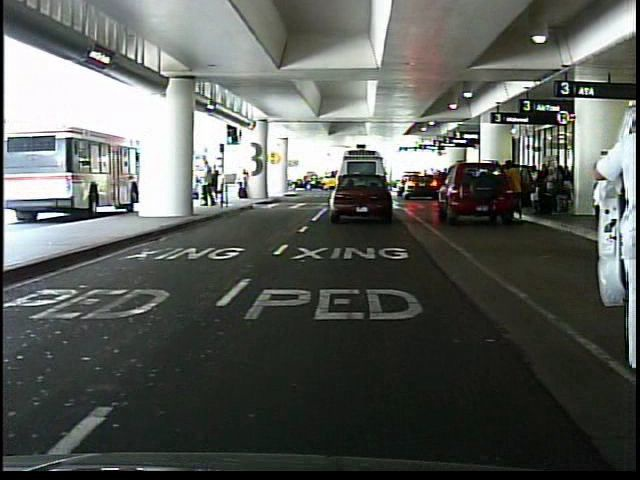person: (578, 94, 639, 375), (592, 149, 624, 233), (505, 159, 525, 223), (200, 155, 218, 210), (237, 166, 255, 203), (209, 162, 223, 208)
